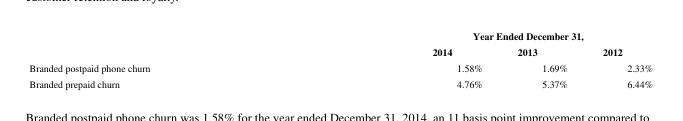table: (28, 28, 651, 89)
table column: (28, 28, 290, 89), (290, 28, 499, 89), (499, 28, 584, 89), (584, 28, 651, 89)
table column header: (28, 28, 651, 59)
table row: (28, 43, 651, 59), (28, 59, 651, 75), (28, 28, 651, 43), (28, 75, 651, 89)
table spanning cell: (290, 28, 651, 43)
